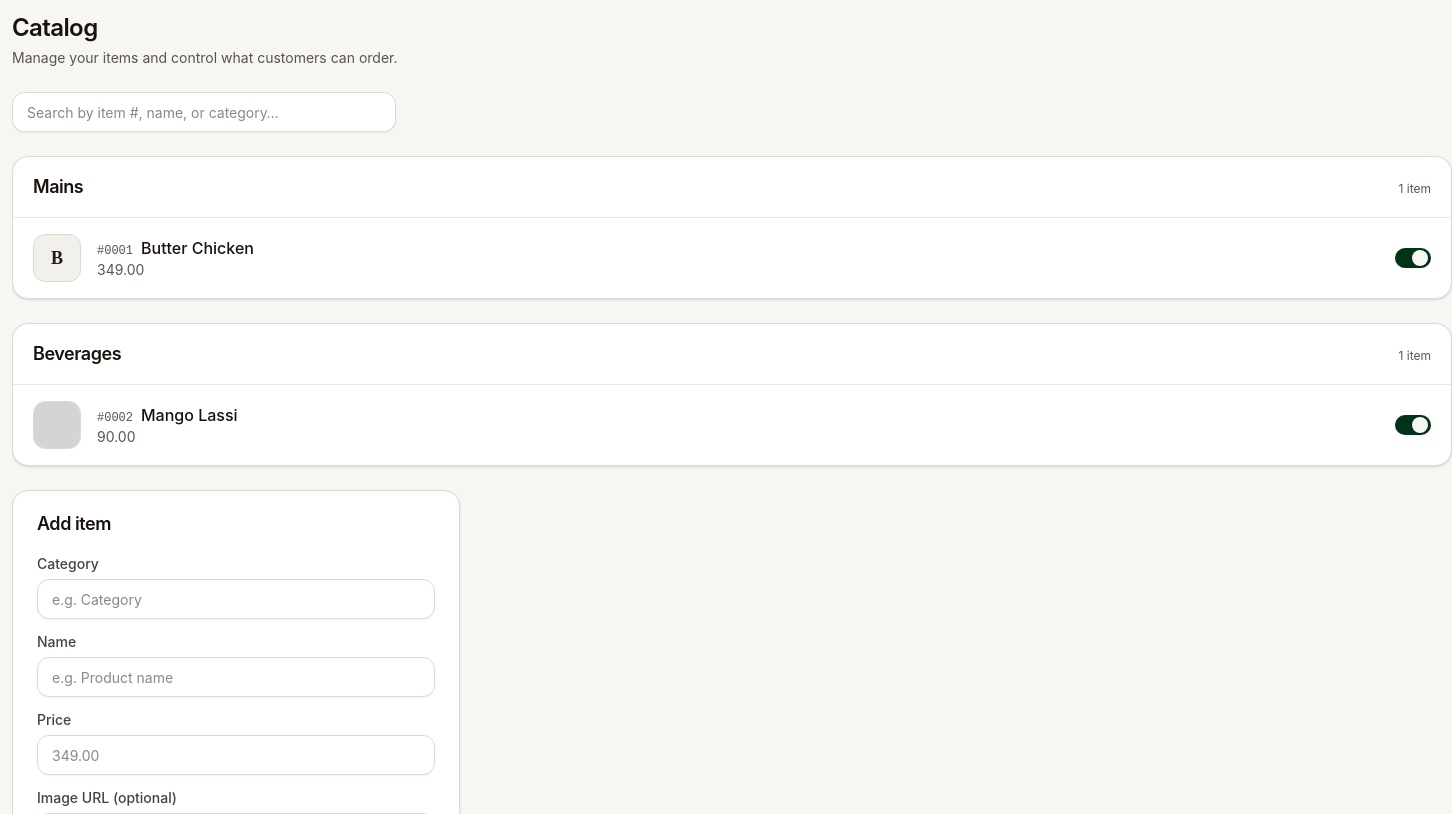
Test: CatalogPage › filters items by search query, matching name or item number, hiding empty category cards
The image size is (1452, 814).
expect the text "Butter Chicken" is shown: met, box x1=141 y1=236 x2=254 y2=260
expect the text "Mango Lassi" is shown: met, box x1=141 y1=403 x2=238 y2=427
Type "lassi" into the search field named "Search items" at (204, 112), box x1=12 y1=92 x2=396 y2=132
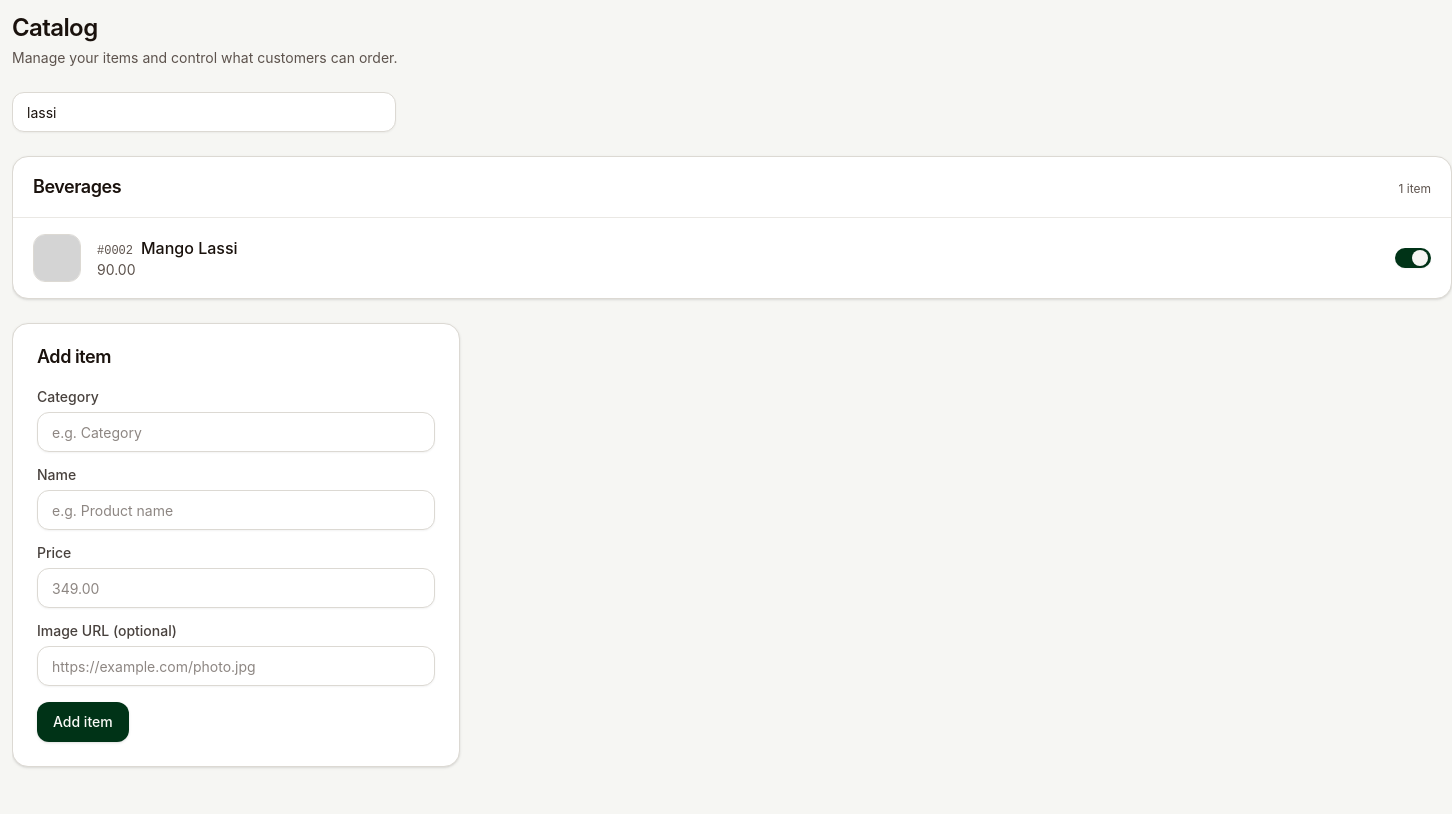
expect the text "Mango Lassi" is shown: met, box x1=141 y1=236 x2=238 y2=260
expect the text "Butter Chicken" is gone: met
expect the heading "Mains" is gone: met
Replace the text in the search field named "Search items" with "#0001" at (204, 112), box x1=12 y1=92 x2=396 y2=132
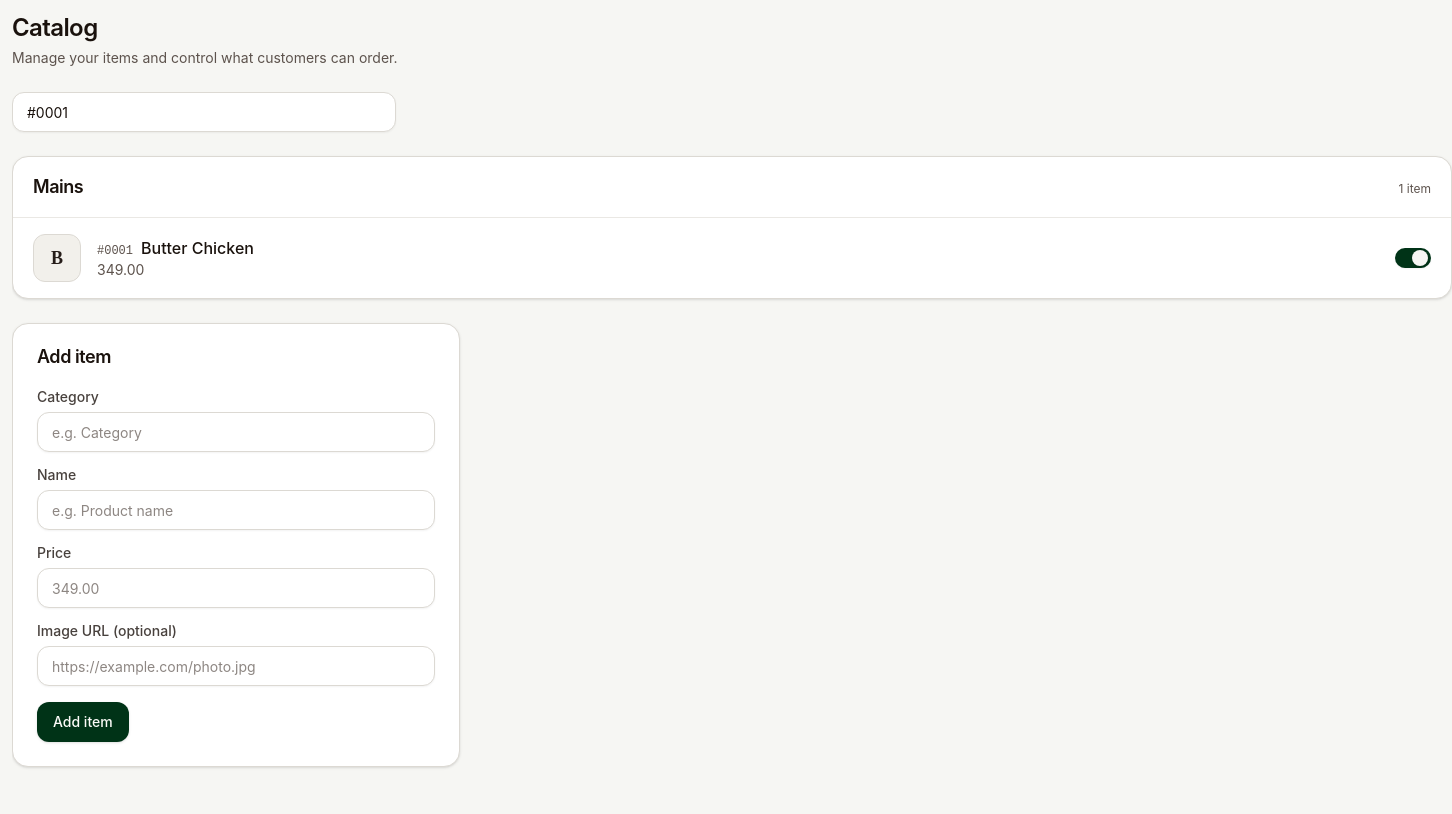
expect the text "Butter Chicken" is shown: met, box x1=141 y1=236 x2=254 y2=260
expect the text "Mango Lassi" is gone: met
